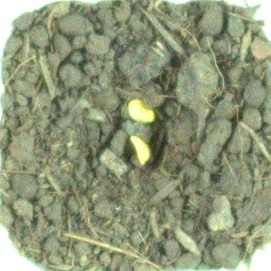chilli seed: (126, 132, 158, 168), (125, 97, 157, 124)
